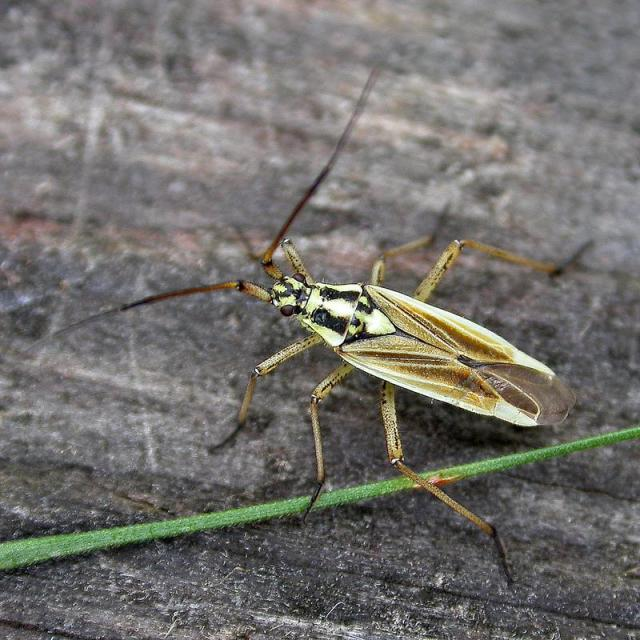Miridae-Adult-: (131, 52, 582, 549)
